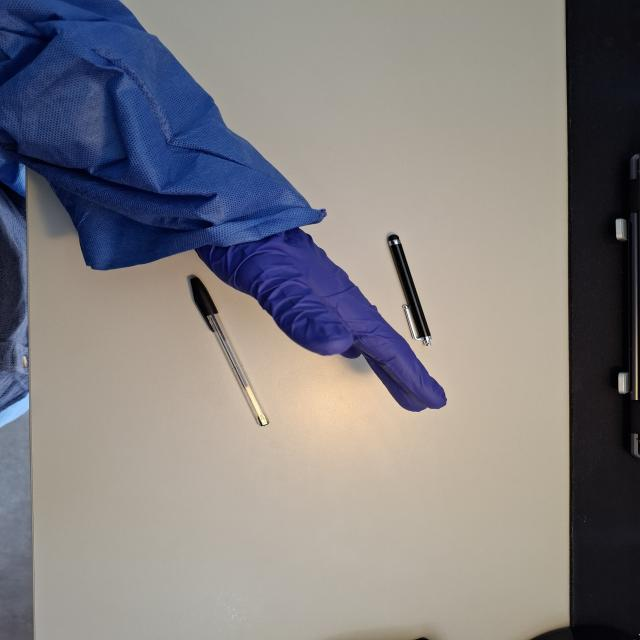glove_on: (181, 198, 450, 414)
